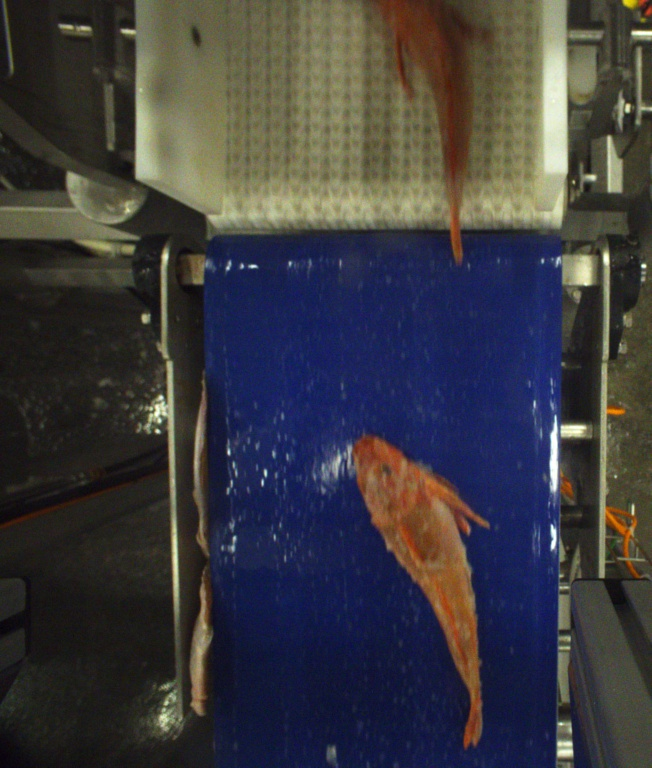GUU: (376, 0, 470, 265)
